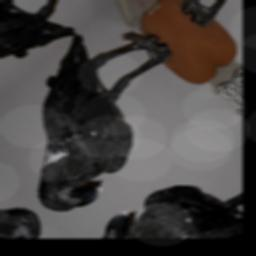Crow: (0, 0, 222, 228)
